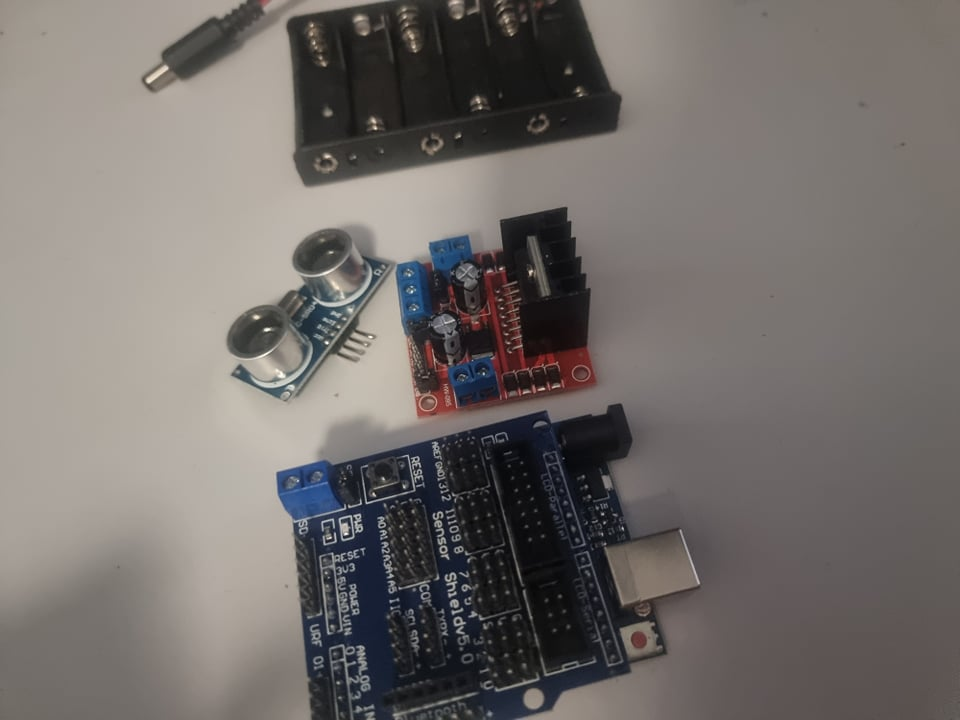5V EXPANSION: (264, 416, 564, 720)
BATTERY BOX: (274, 3, 620, 192)
MOTOR: (397, 209, 611, 409)
SENSOR: (221, 220, 389, 407)
UNO R3: (574, 389, 712, 687)
